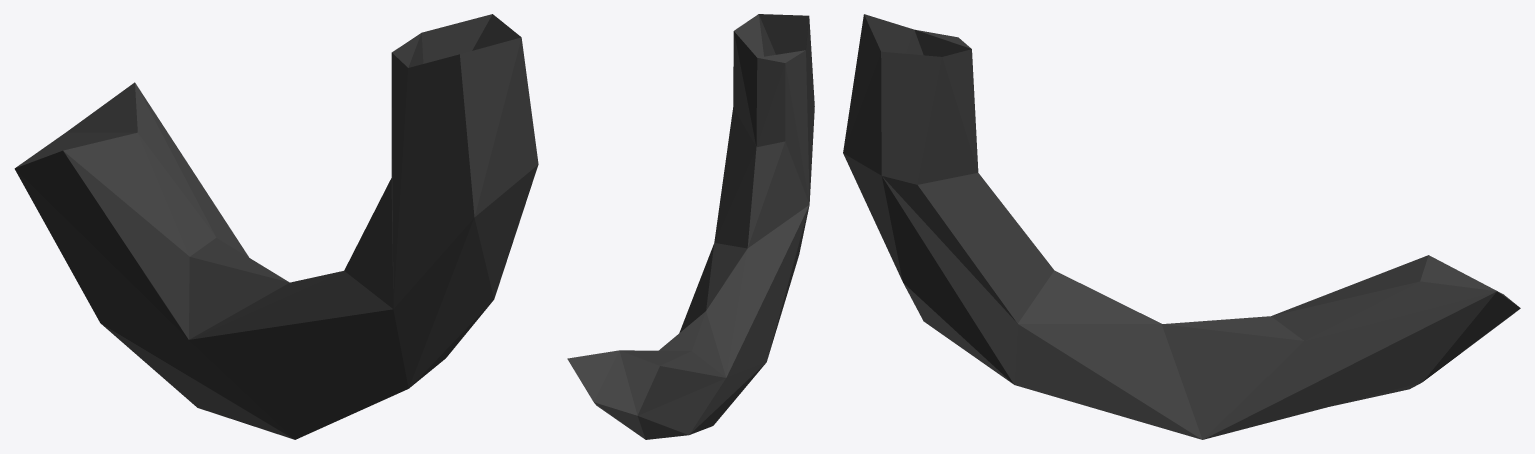
3 views of the same model, side by side, from view 1: azimuth 30°, elevation 25°; view 2: azimuth 150°, elevation 25°; view 3: azimuth 270°, elevation 25° (orthographic). The views are drawn at different scales.
Visible parts, largest first — view 1: world; view 2: world; view 3: world.
Part boxes in pixels (x1,y1,x2,y2): world: (14, 14, 538, 439); world: (567, 14, 814, 439); world: (843, 14, 1520, 439).
Size of the model in its own units: 0.133 by 0.3538 by 0.4971.
1 material, 1 textured.
